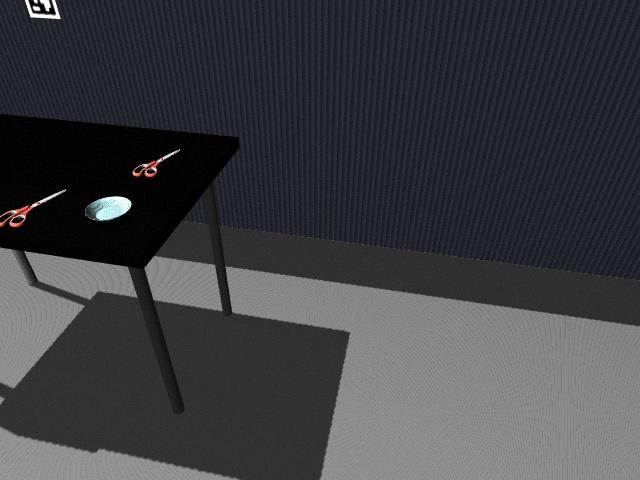plate: (83, 195, 133, 222)
scissors: (0, 188, 67, 230), (133, 149, 180, 179)
